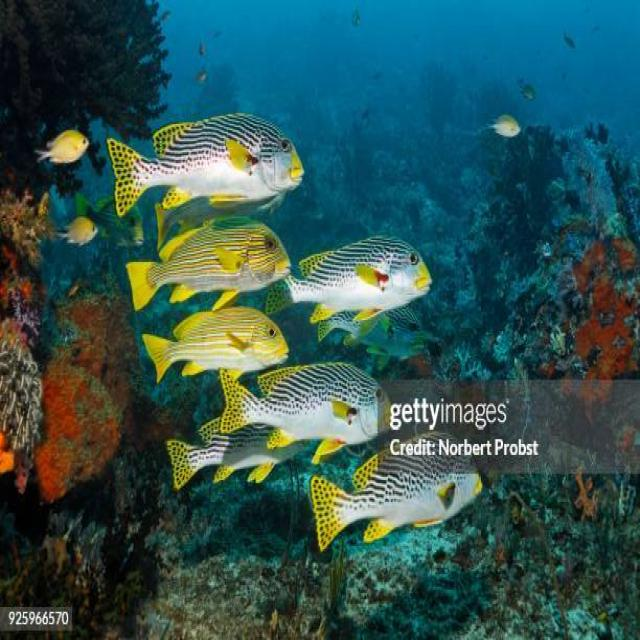RibbonedSweetlips: (126, 215, 292, 311), (141, 306, 290, 387)
